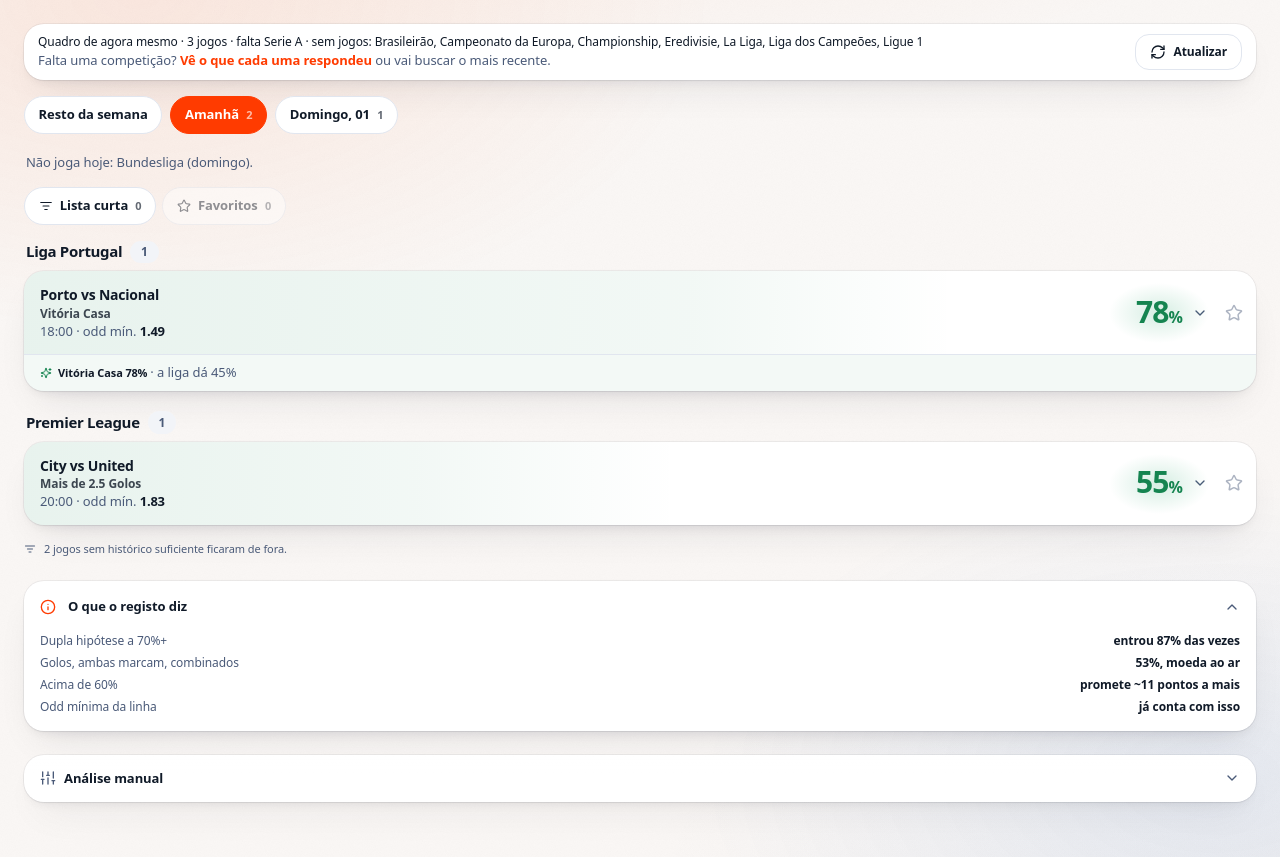
Test: what opening a game shows › opens on the markets, with the rest behind a tap
Click the text "Porto vs Nacional".
click(100, 295)  # box [40,285,159,304]
(page scrolled)
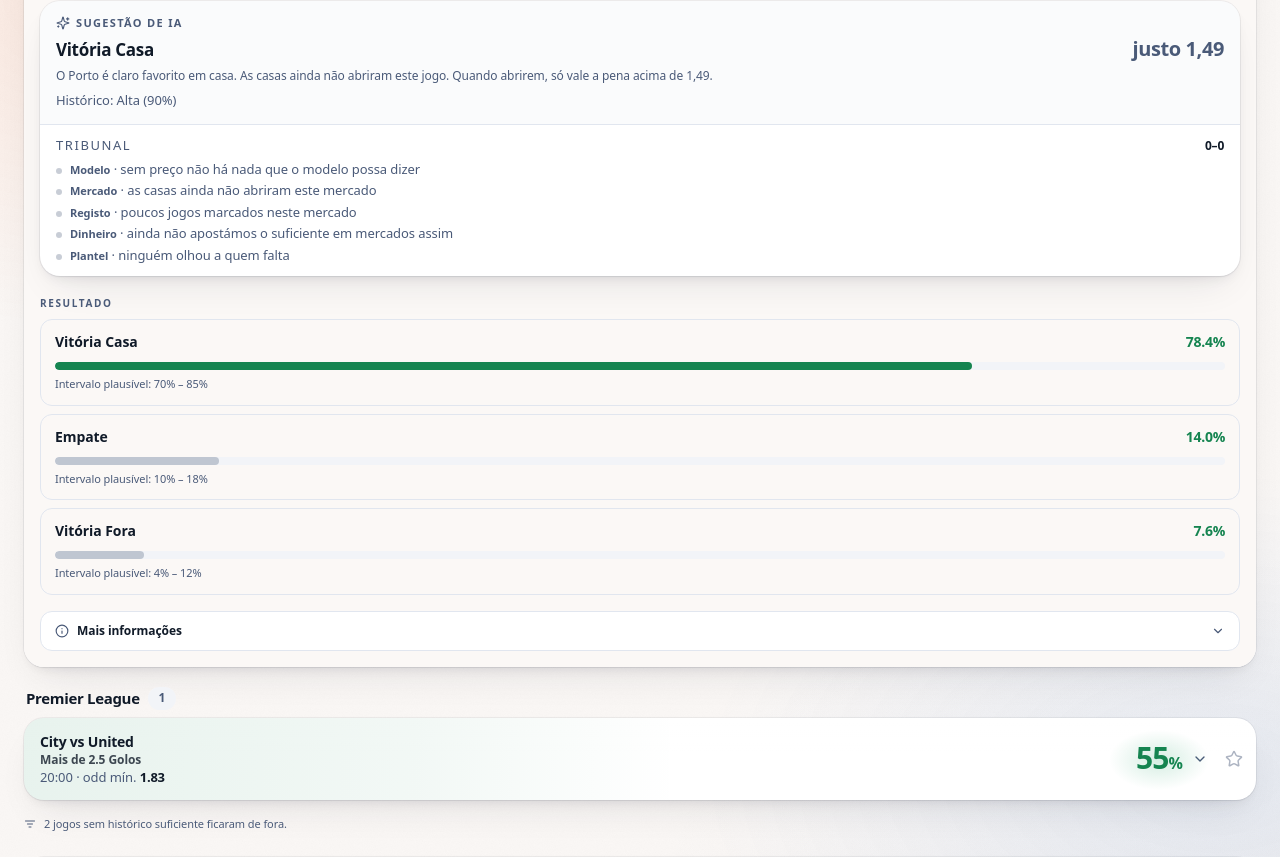
Now the text "Empate" is shown, box [55,427,108,447]
Now the button "Mais informações" is shown, box [41,612,1239,650]
